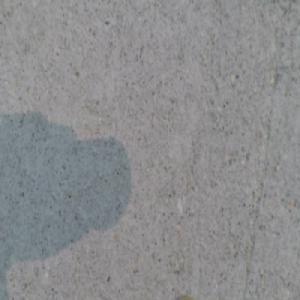Washer: (175, 286, 200, 300)
